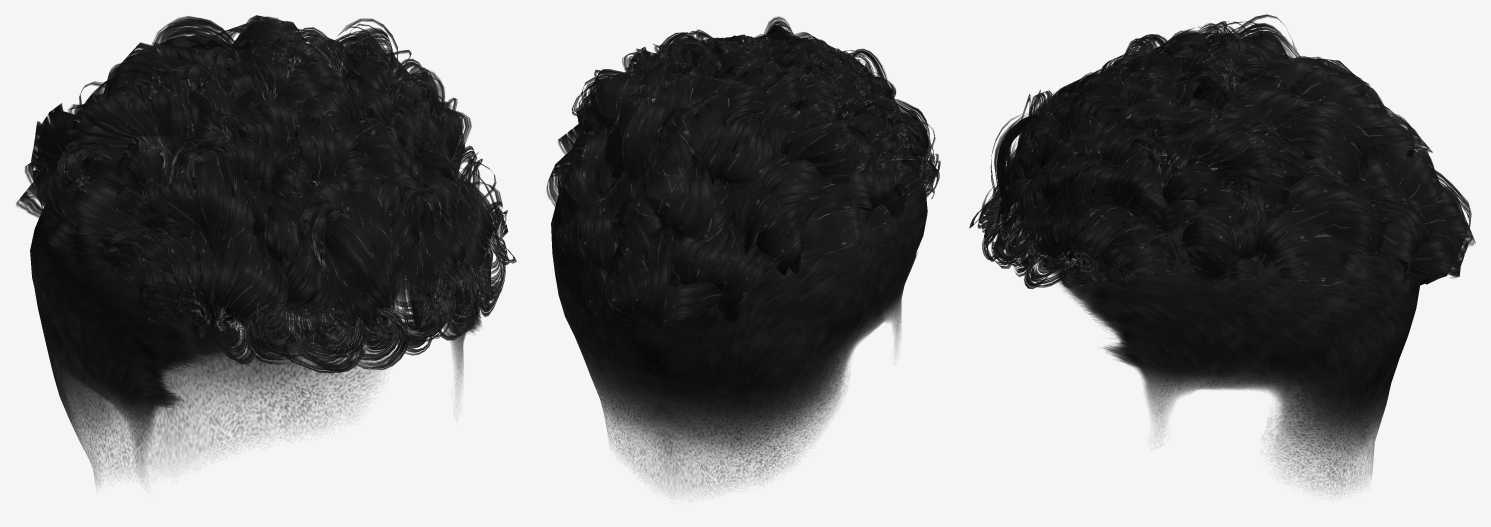
The model's file is TaperedFade.glb.
3 renders of one model, left to right at view 1: azimuth 30°, elevation 25°; view 2: azimuth 150°, elevation 25°; view 3: azimuth 270°, elevation 25°, orthographic. The views are drawn at different scales.
Visible parts, largest first — view 1: TAPERED FADE, Scalp TAPERED FADE; view 2: TAPERED FADE, Scalp TAPERED FADE; view 3: TAPERED FADE, Scalp TAPERED FADE.
Part boxes in pixels (box(x1,y1,x2,y2)): TAPERED FADE: box(16, 15, 516, 373); Scalp TAPERED FADE: box(30, 109, 490, 484); TAPERED FADE: box(546, 16, 940, 329); Scalp TAPERED FADE: box(551, 104, 927, 492); TAPERED FADE: box(969, 14, 1475, 288); Scalp TAPERED FADE: box(1020, 147, 1420, 494).
Bounding box in the file's own units: 0.2245 × 0.2731 × 0.283.
Materials: 2 (2 with a texture image).
